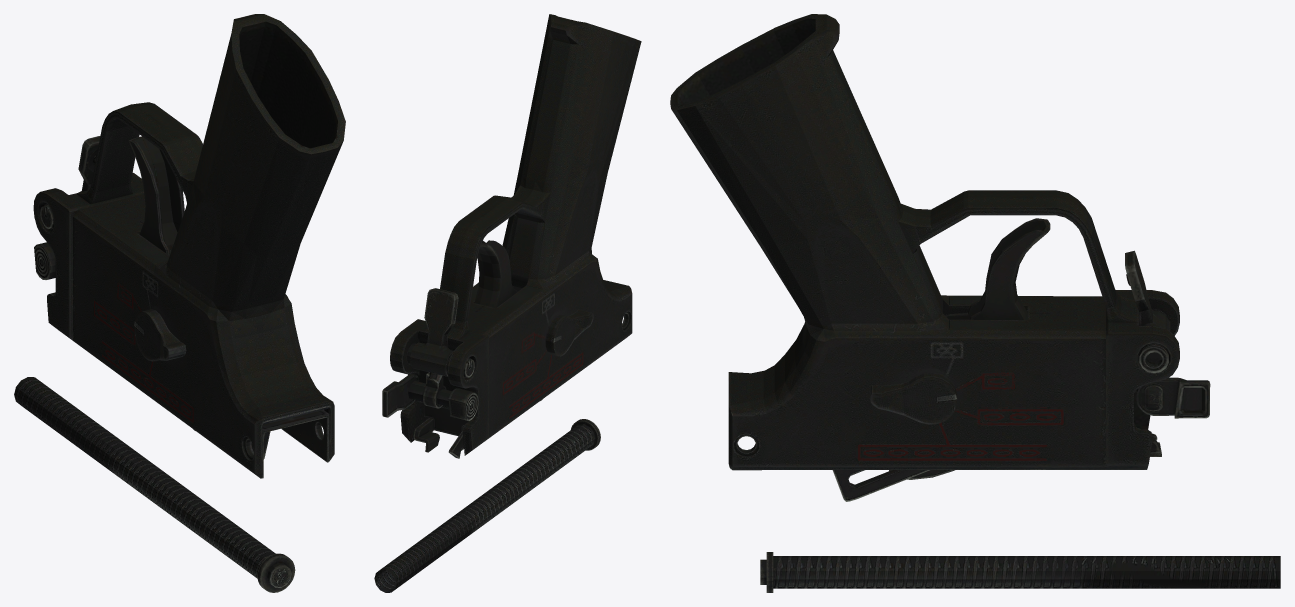
3 views of the same model, side by side, from view 1: azimuth 30°, elevation 25°; view 2: azimuth 150°, elevation 25°; view 3: azimuth 270°, elevation 25° (orthographic). The views are drawn at different scales.
Visible parts, largest first — view 1: TW_5d2f0d8048f0356c925bc3b0_PZ_Import; view 2: TW_5d2f0d8048f0356c925bc3b0_PZ_Import; view 3: TW_5d2f0d8048f0356c925bc3b0_PZ_Import.
Boxes of the visible parts, left/top/right/bottom form: TW_5d2f0d8048f0356c925bc3b0_PZ_Import: left=14, top=14, right=345, bottom=592; TW_5d2f0d8048f0356c925bc3b0_PZ_Import: left=374, top=14, right=641, bottom=592; TW_5d2f0d8048f0356c925bc3b0_PZ_Import: left=670, top=14, right=1280, bottom=592.
Bounding box in the file's own units: 0.0227 × 0.0994 × 0.1023.
Materials: 1 (1 with a texture image).
